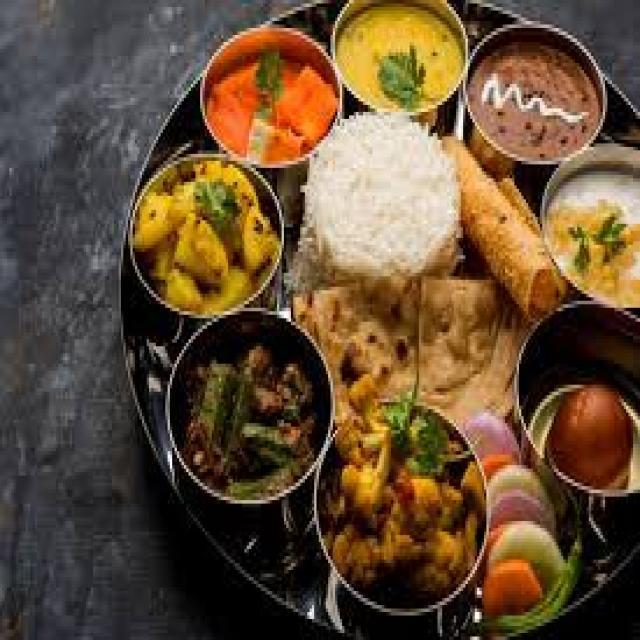dal: (332, 1, 469, 115)
papad: (450, 141, 553, 315)
raita: (540, 168, 639, 312)
rice: (302, 111, 456, 293), (541, 170, 639, 317)
roti: (325, 257, 521, 438), (448, 137, 552, 312)
sambar-rasam: (529, 360, 640, 490)
sweet: (531, 350, 632, 488)
veg-fry: (152, 307, 336, 521), (128, 145, 284, 335), (190, 9, 350, 177), (468, 34, 603, 166)
